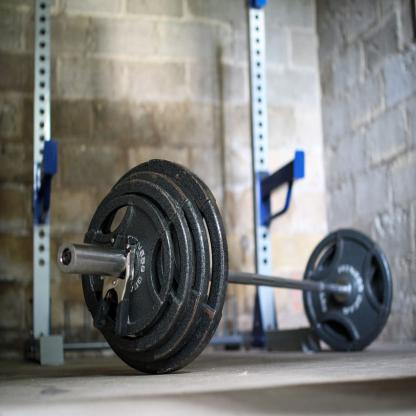Barbell: (53, 154, 237, 379)
